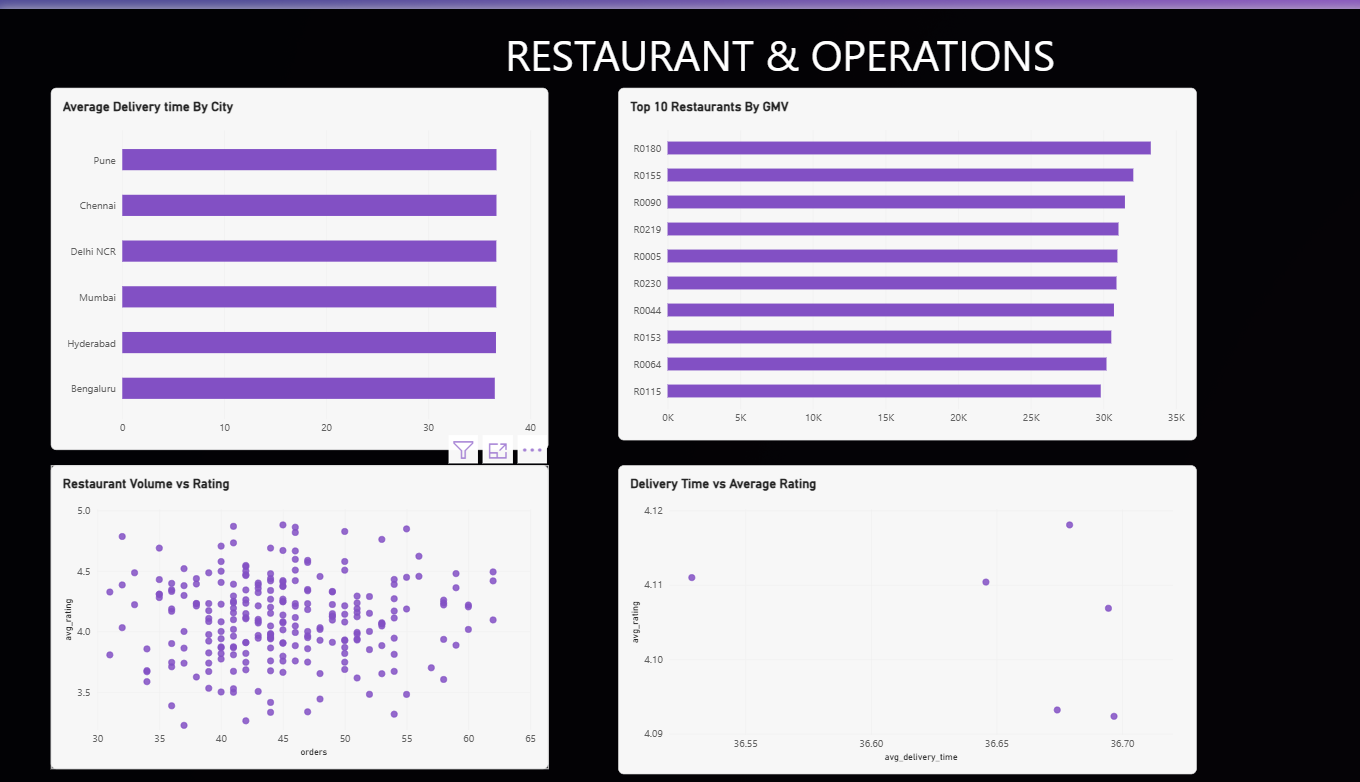

Layout of this report page (visuals, bound fields, positions):
{"tool":"powerbi","page":{"name":"Page 3","canvas":[1920,1080],"ordinal":2},"visuals":[{"type":"textbox","box":[680.2,22.7,825,108.1],"z":0},{"type":"clusteredBarChart","title":"Average Delivery time By City","fields":{"Category":["city_delivery.city"],"Y":["Avg(city_delivery.avg_delivery_time)"]},"box":[75,109.9,694.2,505.8],"z":1000},{"type":"scatterChart","title":"Delivery Time vs Average Rating","fields":{"X":["city_delivery.avg_delivery_time"],"Y":["city_delivery.avg_rating"]},"box":[866.9,636.6,807.6,430.8],"z":2000},{"type":"clusteredBarChart","title":"Top 10 Restaurants By GMV","fields":{"Category":["restaurant_performance.restaurant_id"],"Y":["Sum(restaurant_performance.gmv)"]},"box":[866.9,109.9,807.6,491.9],"z":3000},{"type":"scatterChart","title":"Restaurant Volume vs Rating","fields":{"X":["restaurant_performance.orders"],"Y":["restaurant_performance.avg_rating"]},"box":[75,636.6,694.2,423.8],"z":4000}]}

Visuals, with their boxes in screenshot pixels (x1, y1, x2, y2), scaled from the page's 1920x1080 canvas onto the 1360x782 screenshot:
textbox: pyautogui.locateOnScreen(482, 16, 1066, 95)
"Average Delivery time By City" clusteredBarChart: pyautogui.locateOnScreen(53, 80, 545, 446)
"Delivery Time vs Average Rating" scatterChart: pyautogui.locateOnScreen(614, 461, 1186, 773)
"Top 10 Restaurants By GMV" clusteredBarChart: pyautogui.locateOnScreen(614, 80, 1186, 436)
"Restaurant Volume vs Rating" scatterChart: pyautogui.locateOnScreen(53, 461, 545, 768)
